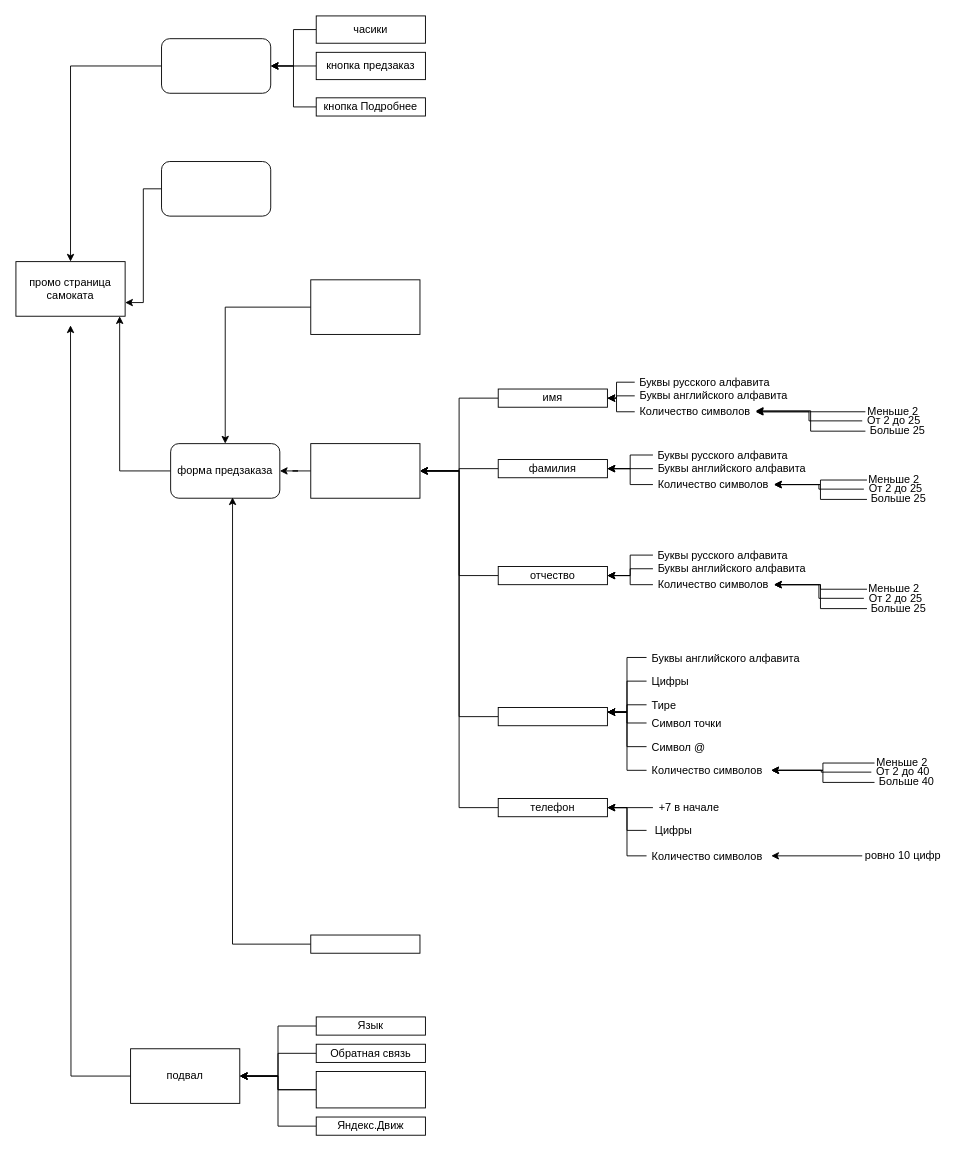
The diagram is 960 pixels wide and 1151 high, and some of its shapes have lost their labels. Here are the shapes that lost their labels. From the top down, the box of each, then its label:
(161, 38, 271, 93): Верхний блок
(161, 161, 271, 216): текстовое описание
(310, 279, 420, 334): Счетчик уже заказали
(310, 443, 420, 498): Поля формы предзаказа
(497, 707, 607, 726): почта
(310, 934, 420, 953): кнопка Заказать
(315, 1071, 425, 1108): Соглашение
